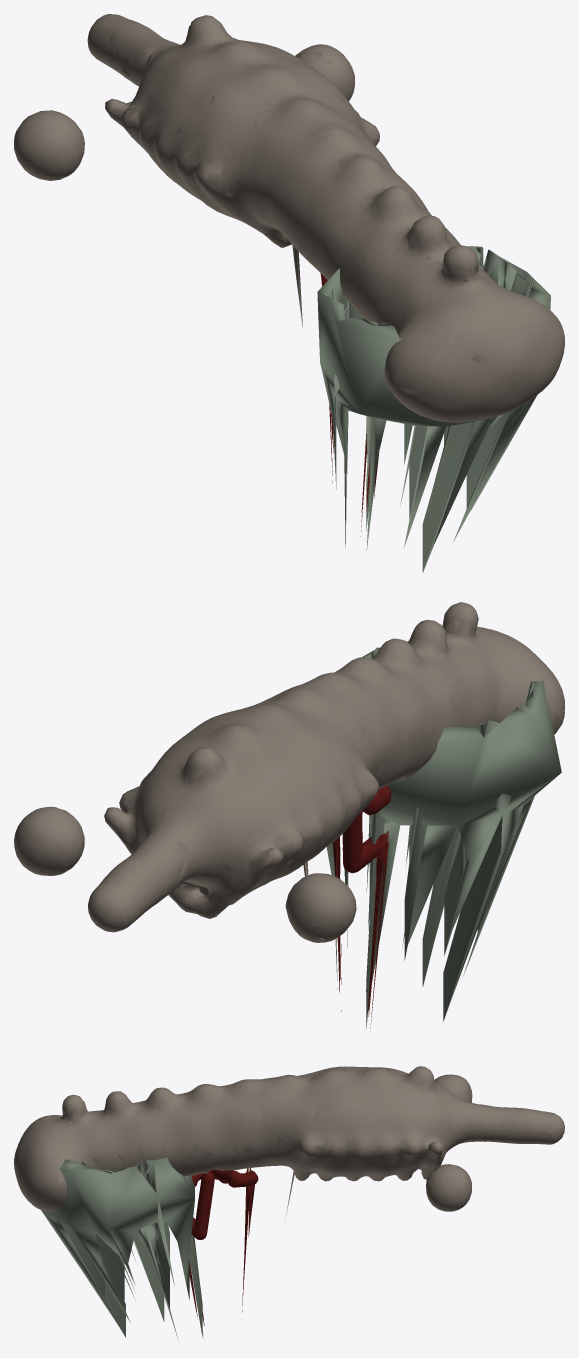
The model's file is long_man_crawl_body.obj.
3 views of the same model, one above another, from view 1: azimuth 30°, elevation 25°; view 2: azimuth 150°, elevation 25°; view 3: azimuth 270°, elevation 25° (orthographic). The views are drawn at different scales.
Visible parts, largest first — view 1: skin, gown; view 2: skin, gown, guts; view 3: skin, gown, guts.
Boxes of the visible parts, x1=… form: skin: x1=14, y1=14, x2=564, y2=422; gown: x1=317, y1=246, x2=550, y2=572; skin: x1=14, y1=602, x2=564, y2=942; gown: x1=326, y1=647, x2=561, y2=1028; guts: x1=333, y1=785, x2=391, y2=1031; skin: x1=14, y1=1066, x2=564, y2=1223; gown: x1=41, y1=1110, x2=202, y2=1339; guts: x1=189, y1=1168, x2=258, y2=1338.
Size of the model in its own units: 0.6604 by 0.7682 by 1.4.
